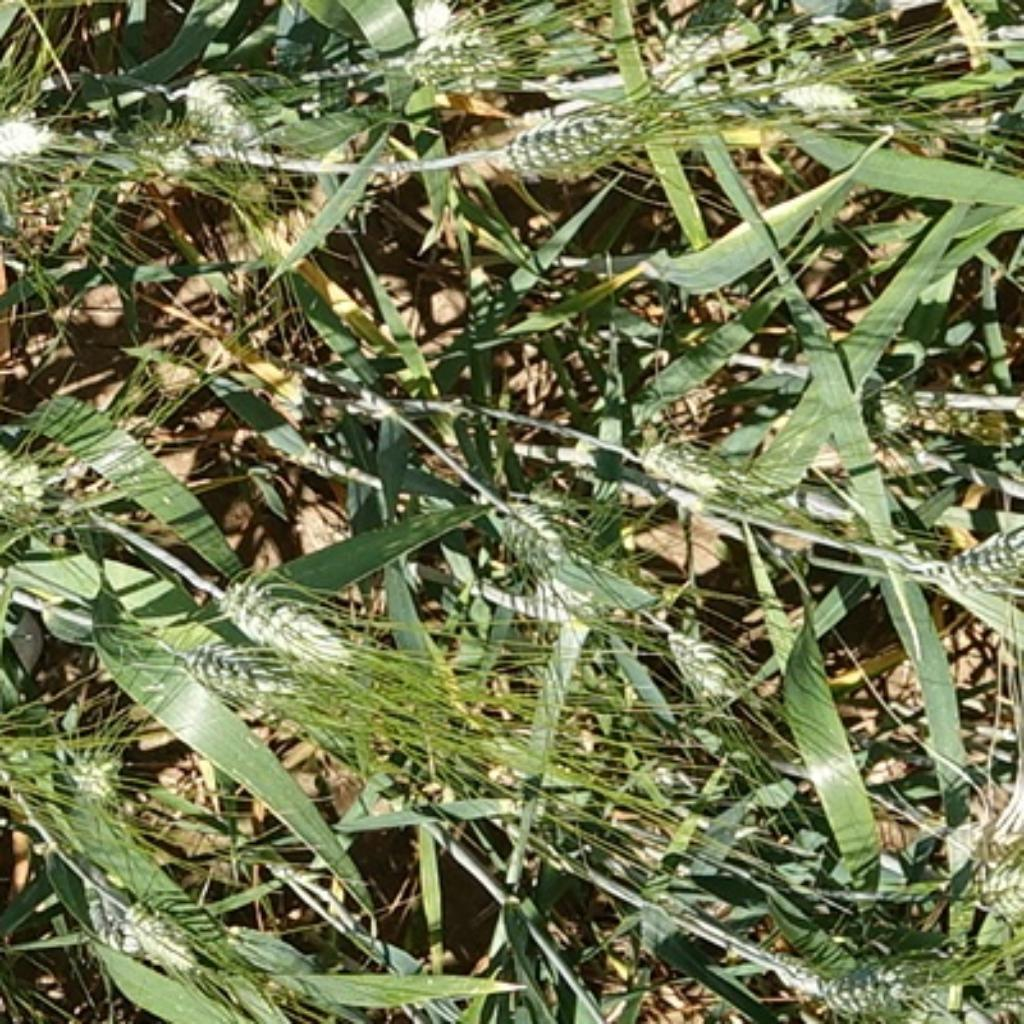0-0: (197, 568, 386, 683), (773, 924, 972, 1018), (629, 422, 788, 519), (486, 481, 614, 599), (84, 878, 215, 988), (491, 89, 652, 176), (392, 10, 514, 105), (161, 642, 322, 711), (857, 376, 947, 481), (637, 0, 752, 81), (174, 66, 266, 161), (117, 120, 217, 197), (657, 609, 742, 698), (757, 48, 862, 117), (939, 516, 1024, 600), (967, 744, 1024, 865), (53, 734, 122, 811), (0, 435, 56, 529), (0, 89, 58, 163), (962, 857, 1021, 926)
